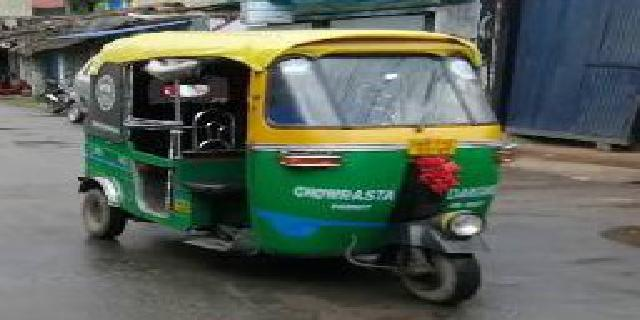Autorickshaw: (83, 36, 515, 302)
